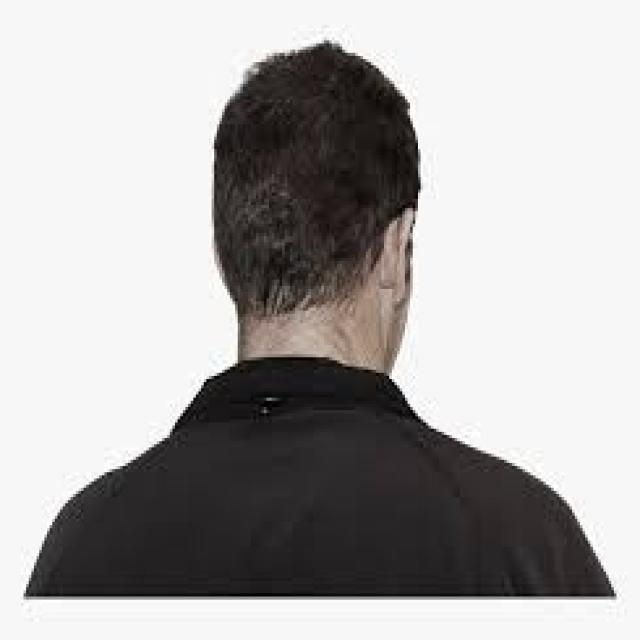Non_Helmet: (193, 34, 451, 356)
